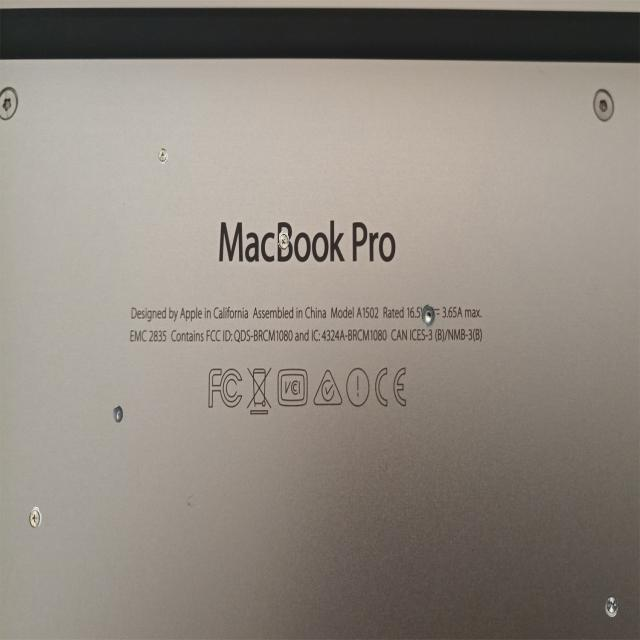lock: (605, 595, 618, 617), (29, 506, 41, 528), (278, 231, 289, 249), (158, 148, 168, 163)
missing_screw: (421, 304, 435, 327), (113, 405, 123, 422)
